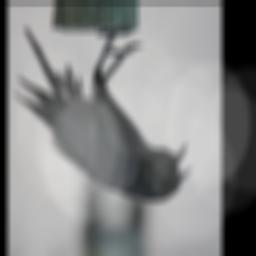Crow: (13, 24, 193, 203)
